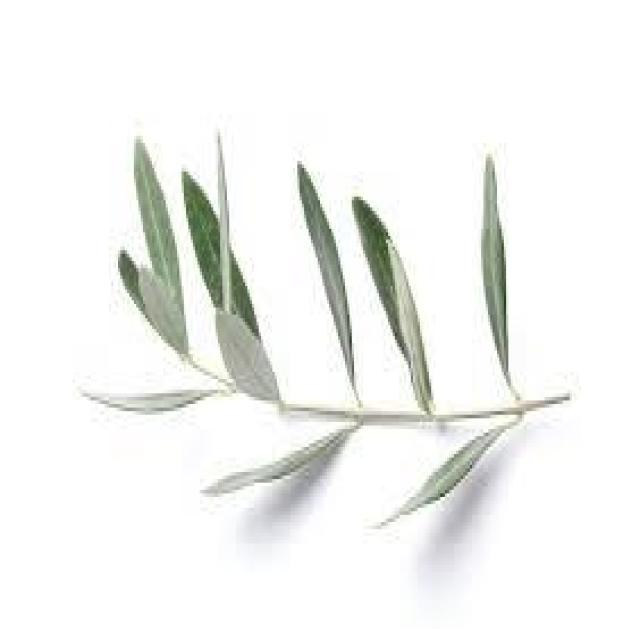Healthy: (298, 164, 356, 393), (483, 154, 511, 386), (216, 311, 279, 397)
